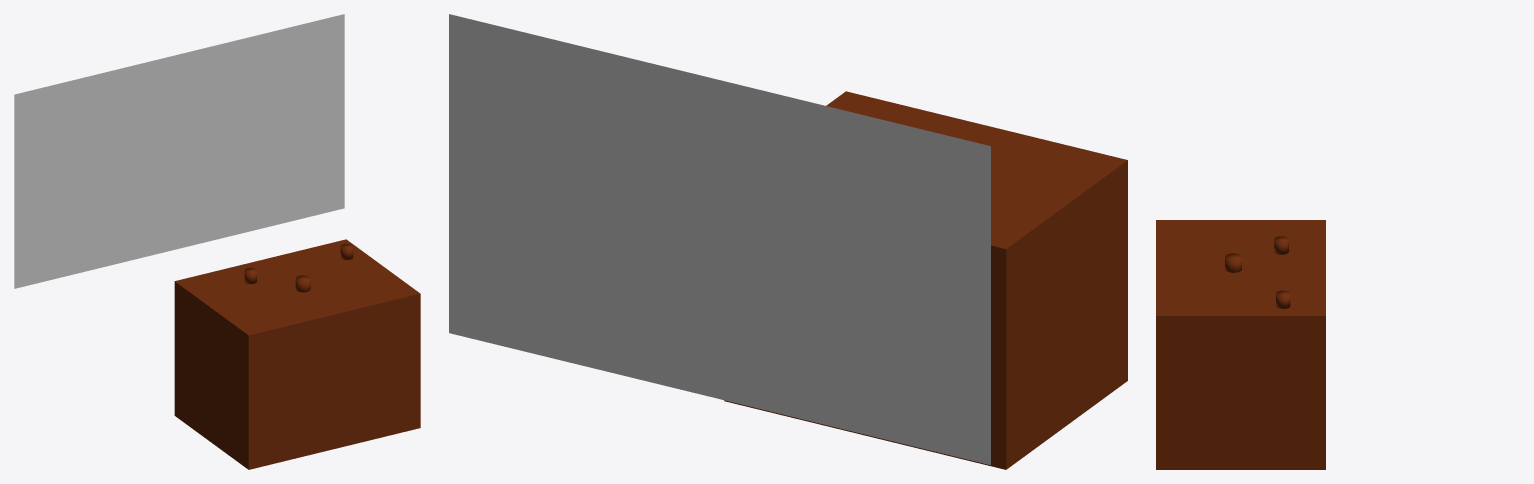
3 renders of one model, left to right at view 1: azimuth 30°, elevation 25°; view 2: azimuth 150°, elevation 25°; view 3: azimuth 270°, elevation 25°, orthographic. The views are drawn at different scales.
Parts seen in each view (by area): view 1: Pasted_image, Cube; view 2: Pasted_image, Cube; view 3: Cube.
Boxes of the visible parts, x1,y1,x2,y2 form: Pasted_image: (14, 14, 344, 288); Cube: (174, 239, 420, 469); Pasted_image: (449, 14, 990, 465); Cube: (724, 91, 1127, 469); Cube: (1156, 220, 1325, 469).
Bounding box in the file's own units: 5.14 × 4.13 × 4.28.
